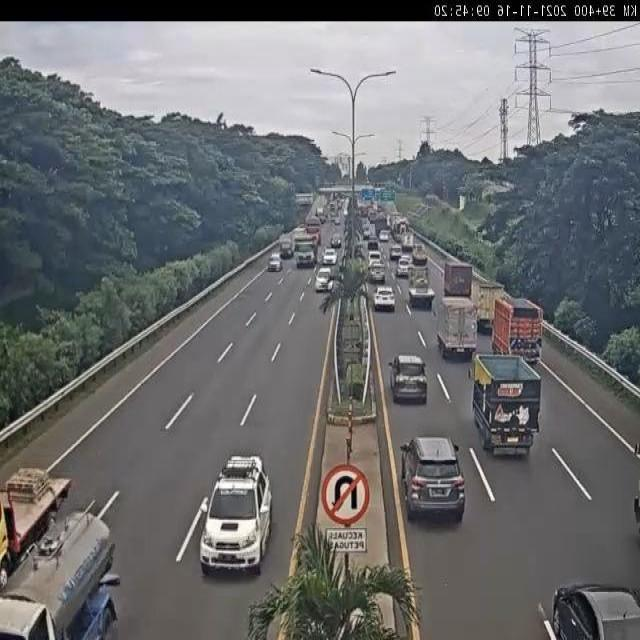Car: (202, 455, 268, 569), (404, 437, 465, 523), (553, 582, 640, 640), (390, 351, 430, 412), (374, 284, 398, 312), (312, 268, 338, 293), (297, 244, 318, 267), (264, 250, 283, 273), (368, 262, 386, 282), (279, 233, 294, 256), (397, 258, 411, 277), (324, 245, 336, 267), (367, 249, 382, 264)
Truck: (0, 507, 125, 640), (476, 348, 545, 456), (0, 470, 70, 575), (492, 294, 541, 361), (441, 296, 476, 359), (476, 278, 511, 326), (406, 264, 435, 305), (445, 263, 473, 298)
